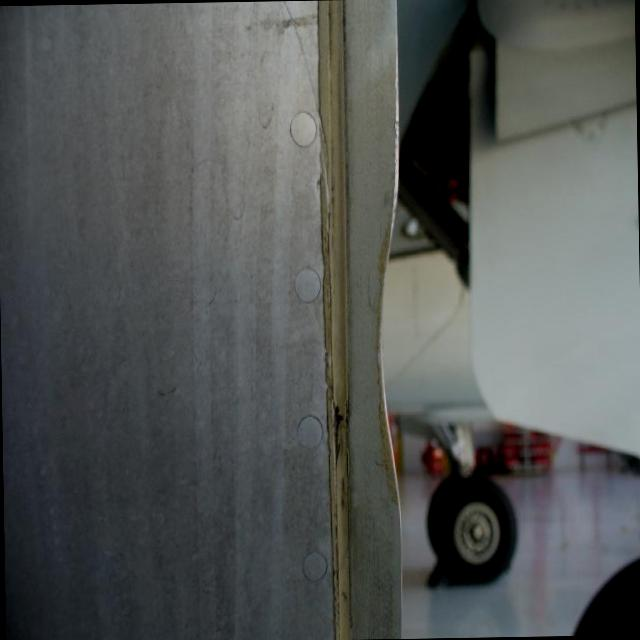dent: (355, 135, 433, 614)
